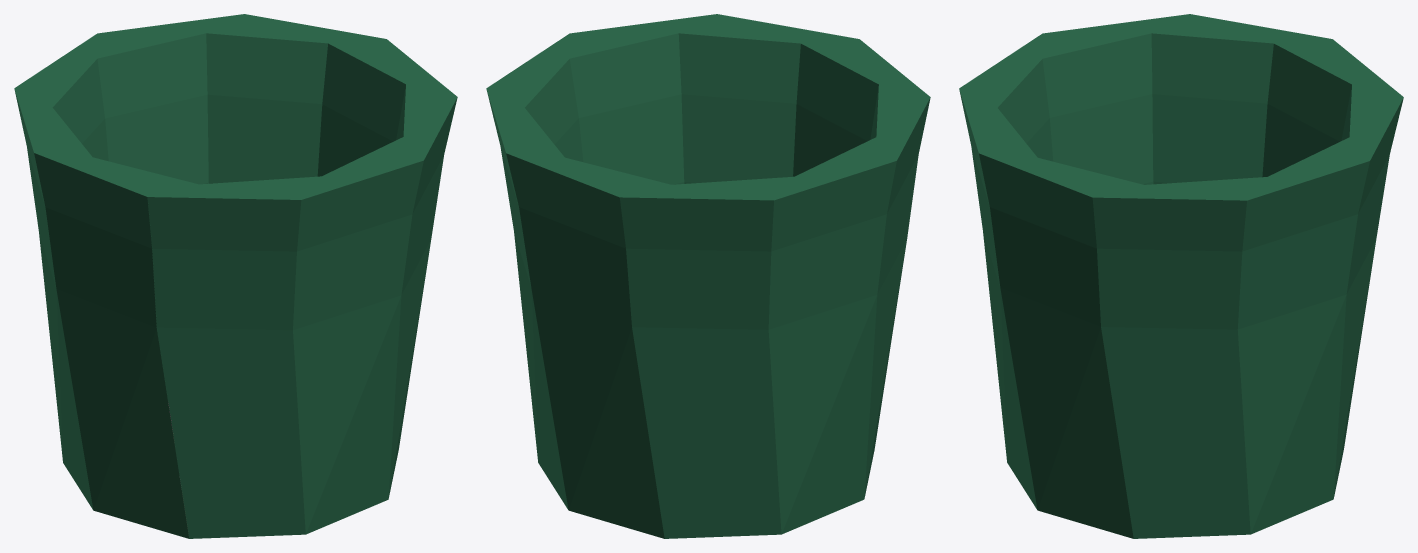
File: Trash_Can_jalcas2.dae
The picture shows the model from 3 angles, left to right: view 1: azimuth 30°, elevation 25°; view 2: azimuth 150°, elevation 25°; view 3: azimuth 270°, elevation 25°; orthographic projection.
Visible parts, largest first — view 1: Cube; view 2: Cube; view 3: Cube.
Boxes of the visible parts, bbox=[...] form: Cube: bbox=[14, 14, 457, 538]; Cube: bbox=[486, 14, 930, 538]; Cube: bbox=[959, 14, 1403, 538].
Size of the model in its own units: 3.64 by 3.67 by 3.28.
